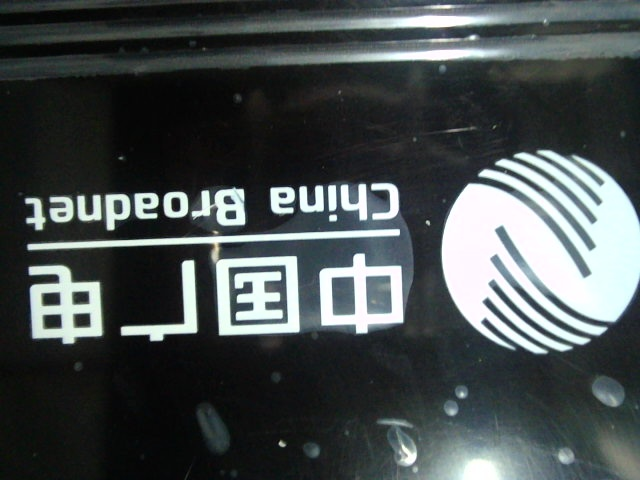AW_ChinaBroadNet: (13, 146, 638, 358)
